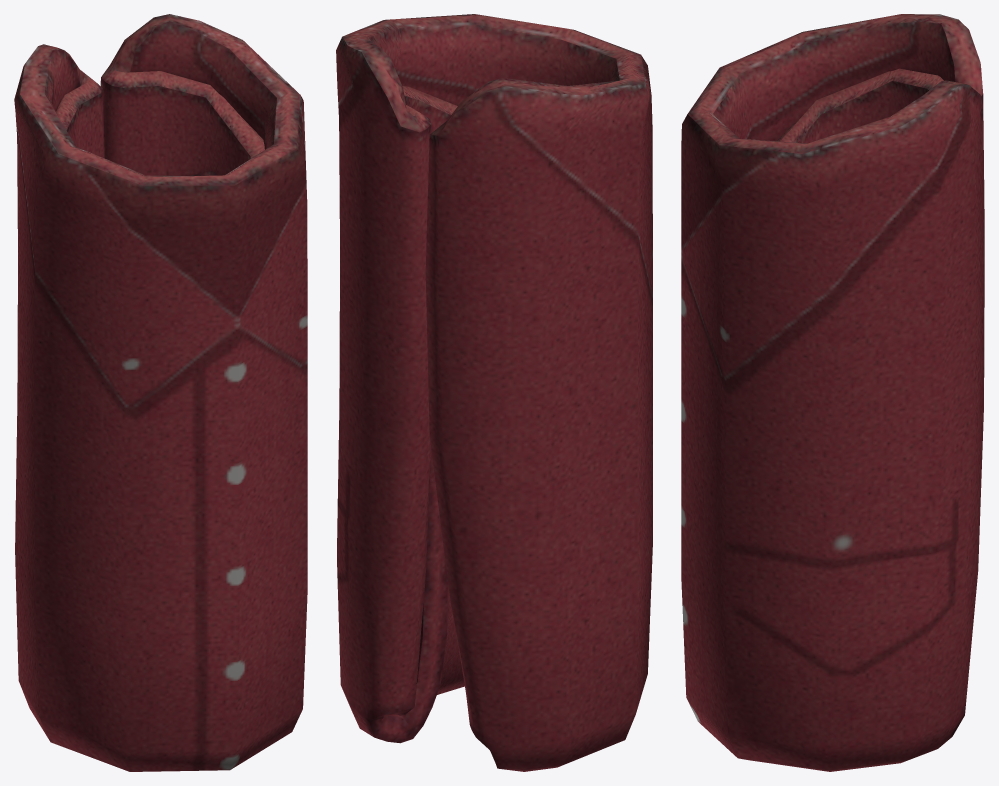
The model's file is SM_FoldedShirt_1.glb.
3 renders of one model, left to right at view 1: azimuth 30°, elevation 25°; view 2: azimuth 150°, elevation 25°; view 3: azimuth 270°, elevation 25°, orthographic. The views are drawn at different scales.
Parts seen in each view (by area): view 1: SM_FoldedShirt_1; view 2: SM_FoldedShirt_1; view 3: SM_FoldedShirt_1.
Boxes of the visible parts, bbox=[...] form: SM_FoldedShirt_1: bbox=[14, 14, 307, 771]; SM_FoldedShirt_1: bbox=[336, 14, 652, 771]; SM_FoldedShirt_1: bbox=[681, 14, 984, 771].
Bounding box in the file's own units: 0.1063 × 0.2561 × 0.1044.
Materials: 1 (1 with a texture image).
